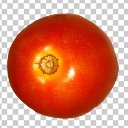tomato: (7, 13, 120, 119)
